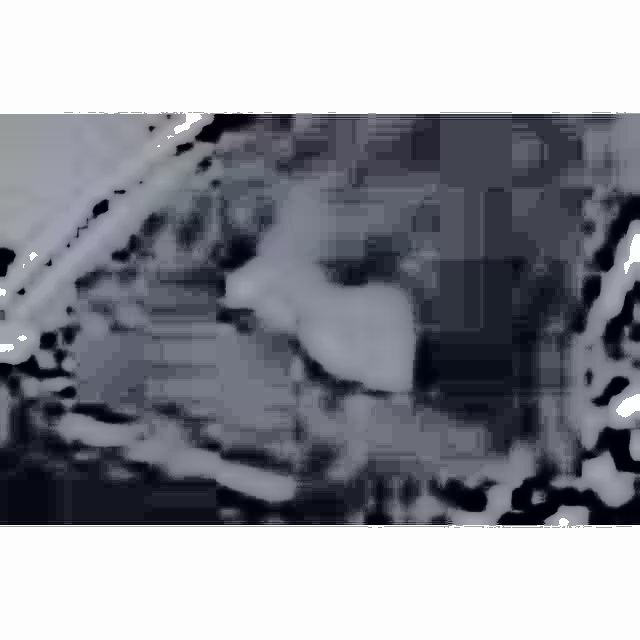tidak-pakai: (174, 205, 421, 379)
